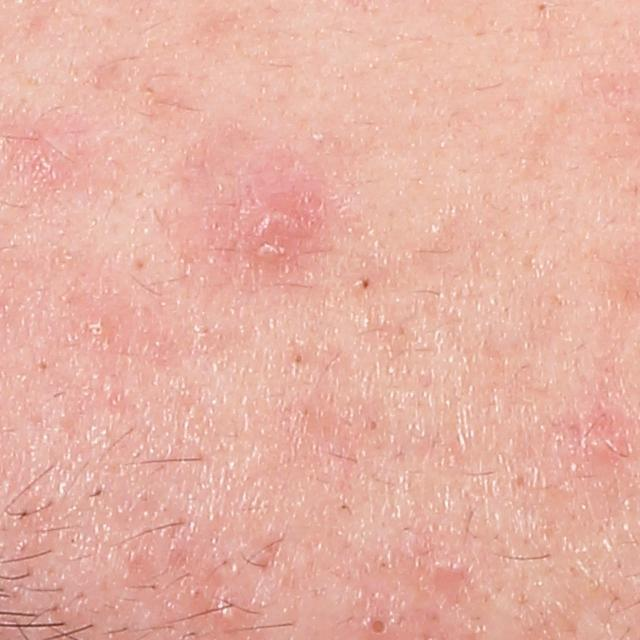comedo: (34, 358, 52, 374), (356, 276, 375, 291), (294, 352, 306, 366), (368, 419, 380, 433)
